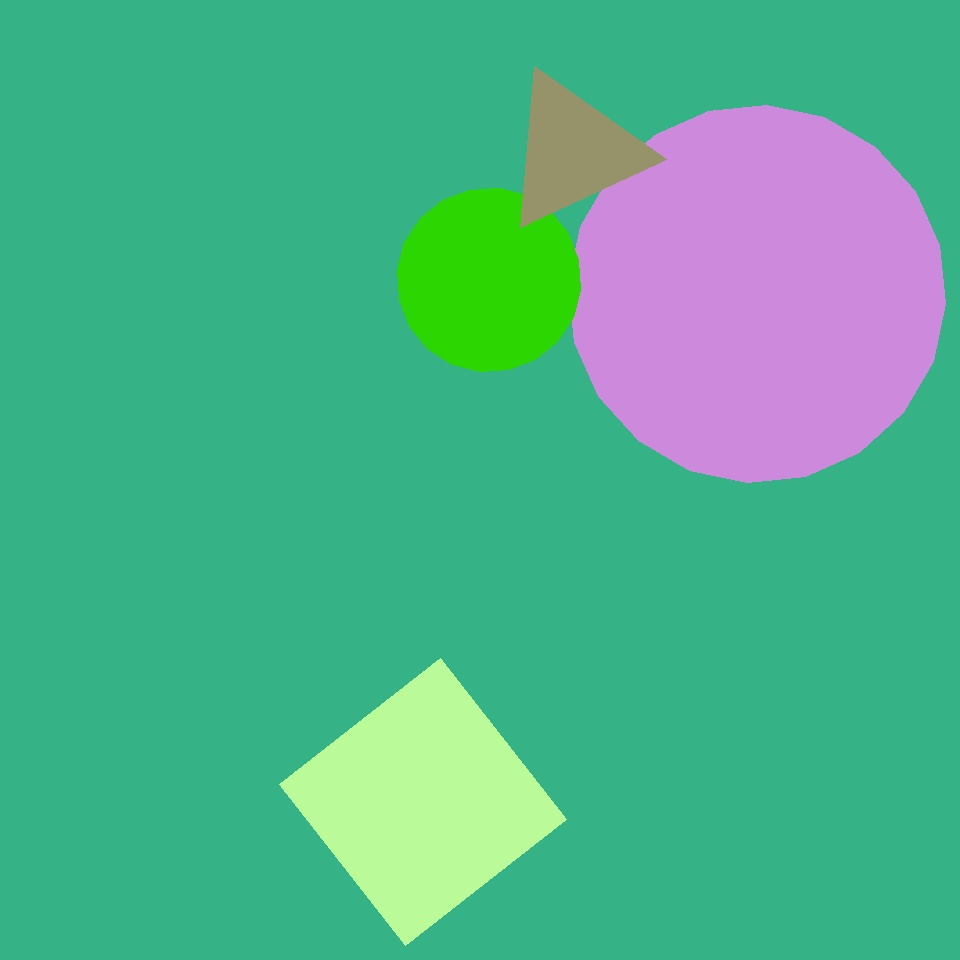circle: (307, 41, 561, 262), (666, 436, 885, 632), (501, 70, 647, 232)
square: (280, 659, 566, 946), (656, 548, 830, 723), (732, 41, 823, 132)
triangle: (569, 106, 946, 483), (627, 698, 840, 911), (398, 189, 580, 372)
